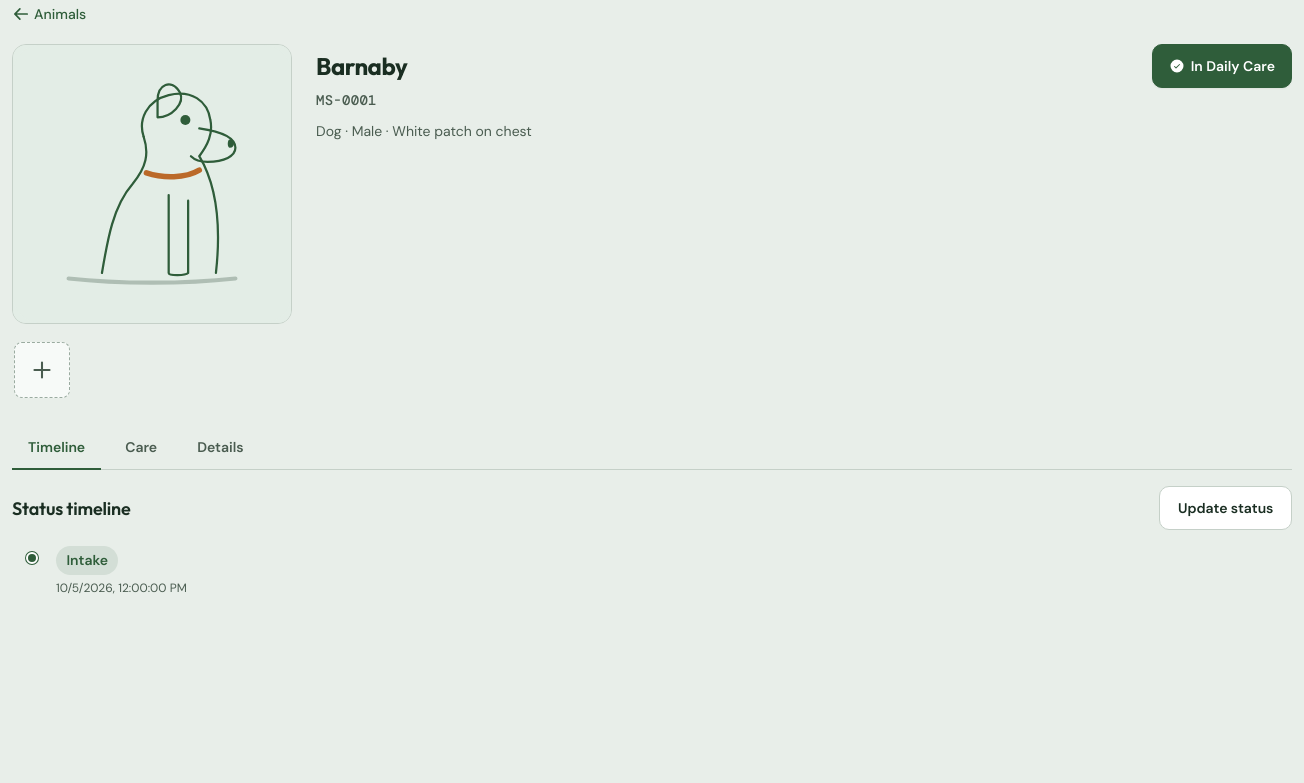
AnimalDetailScreen Characteristics View & Edit Modal › renders characteristics view under Details tab with Edit details button
Click the tab "Details": (220, 448) left=181, top=426, right=260, bottom=470
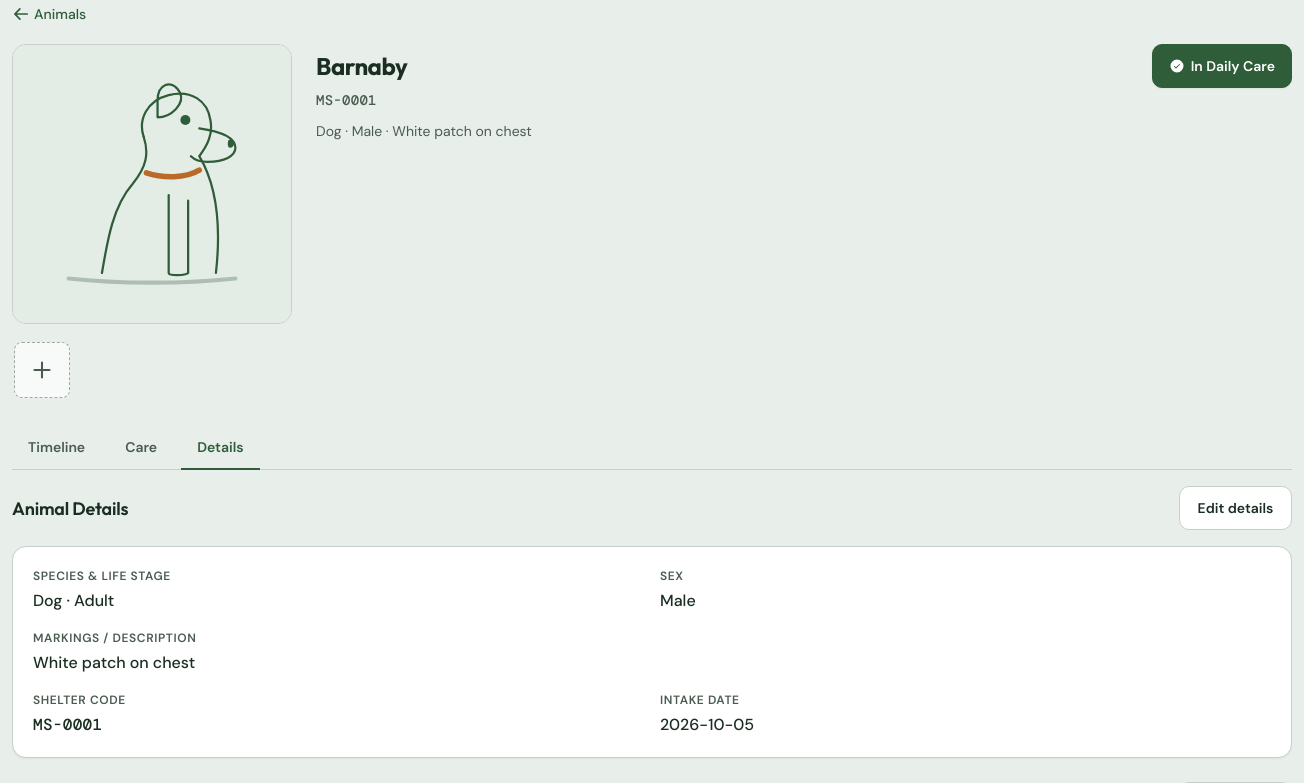
Expected: the heading "Animal Details" is shown, left=12, top=495, right=128, bottom=522
Expected: the button "Edit details" is shown, left=1179, top=486, right=1292, bottom=530
Expected: the element with class "characteristics-grid" shows "Dog · Adult", left=33, top=568, right=754, bottom=735
